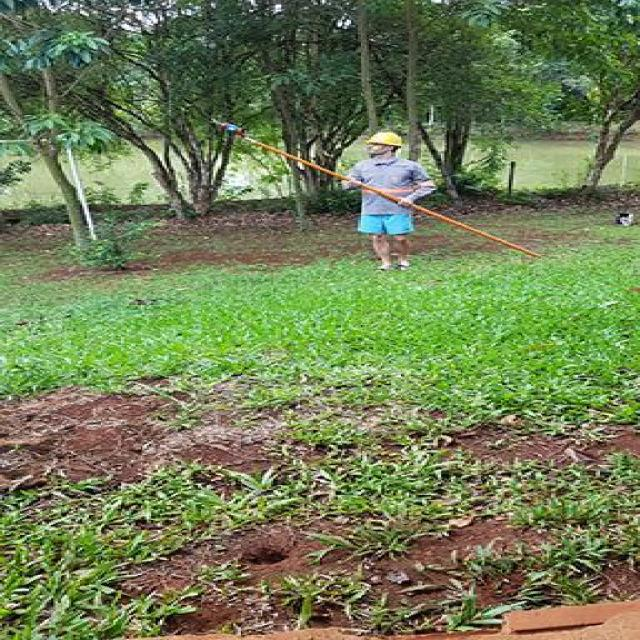helmet: (362, 132, 402, 158)
